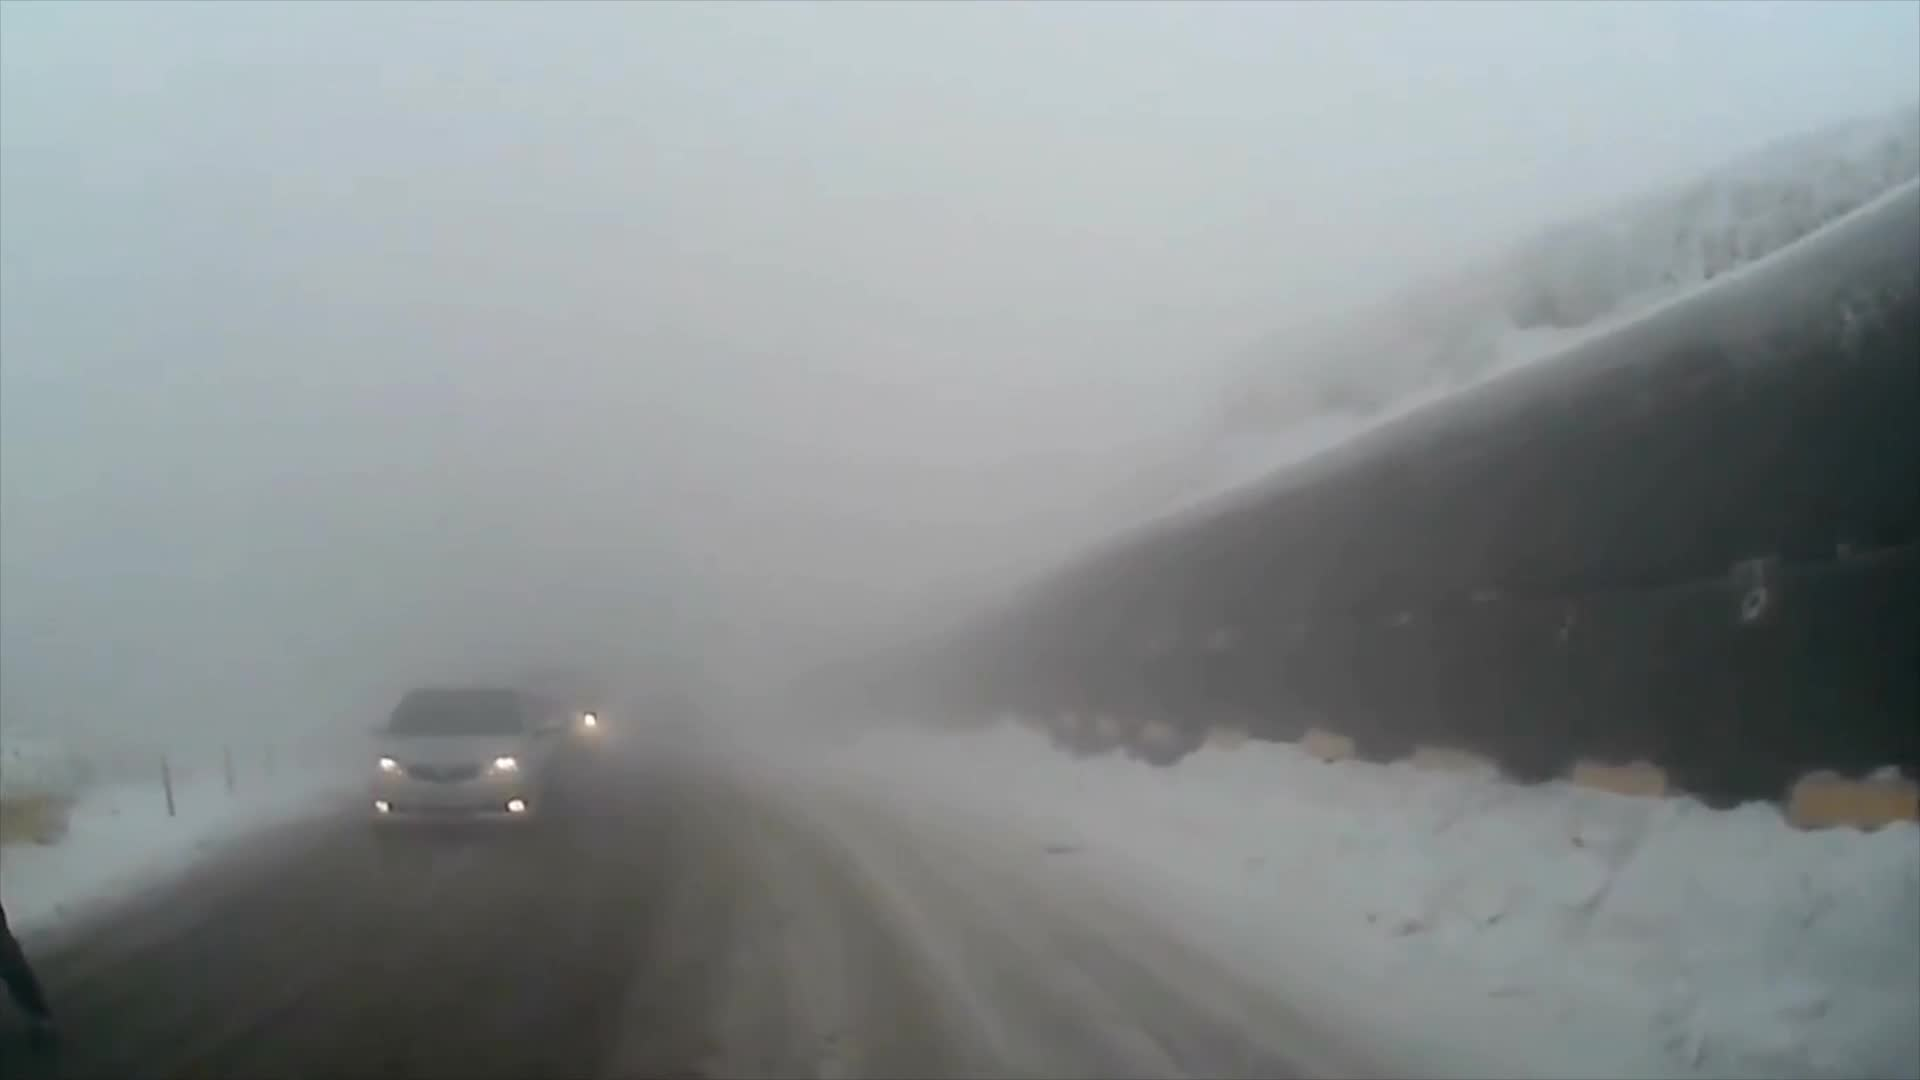pedestrian: (1, 683, 56, 1039)
vehicle: (361, 682, 561, 840)
